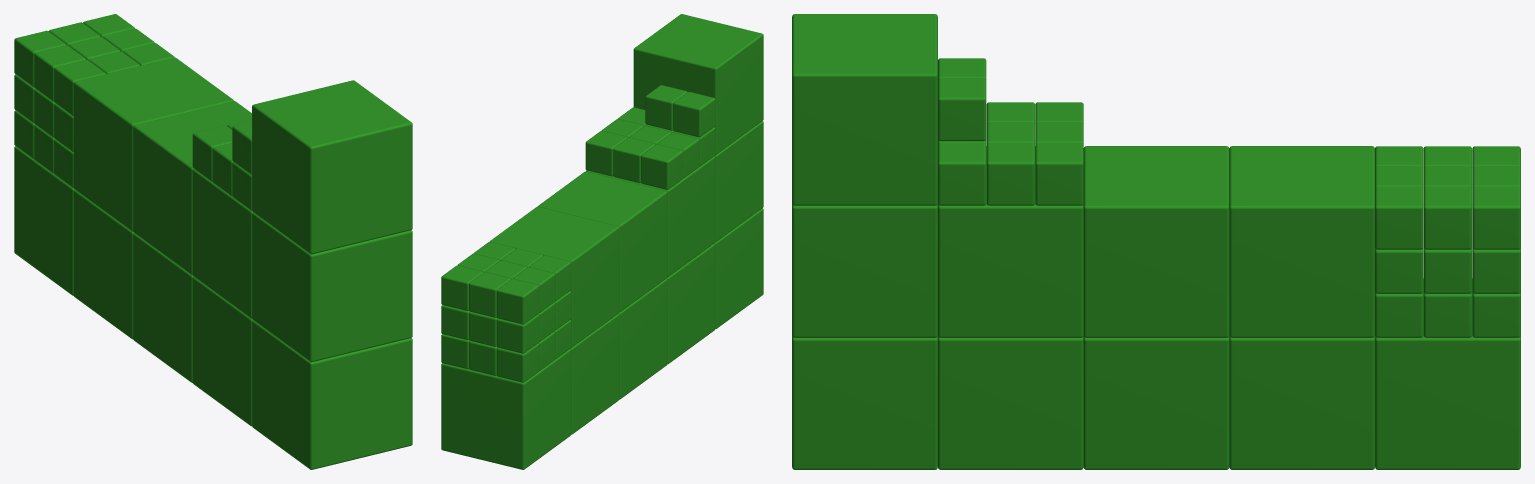
File: cubestack1.glb
3 renders of one model, left to right at view 1: azimuth 30°, elevation 25°; view 2: azimuth 150°, elevation 25°; view 3: azimuth 270°, elevation 25°, orthographic. The views are drawn at different scales.
Parts seen in each view (by area): view 1: cubestack; view 2: cubestack; view 3: cubestack.
Part boxes in pixels (x1,y1,x2,y2): cubestack: (14,14,412,469); cubestack: (441,14,763,469); cubestack: (792,14,1520,469).
Size of the model in its own units: 2 by 6 by 10.
